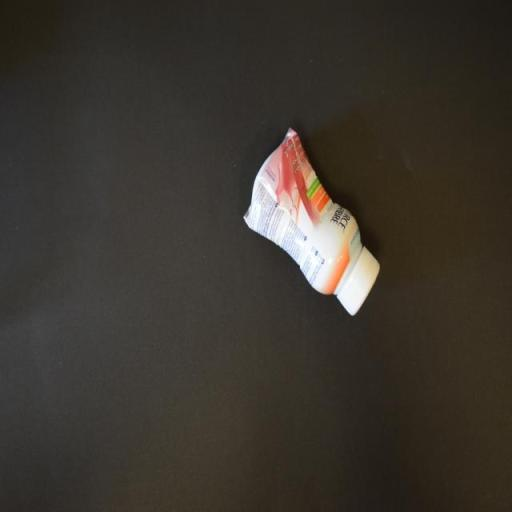plastic: (240, 126, 379, 315)
